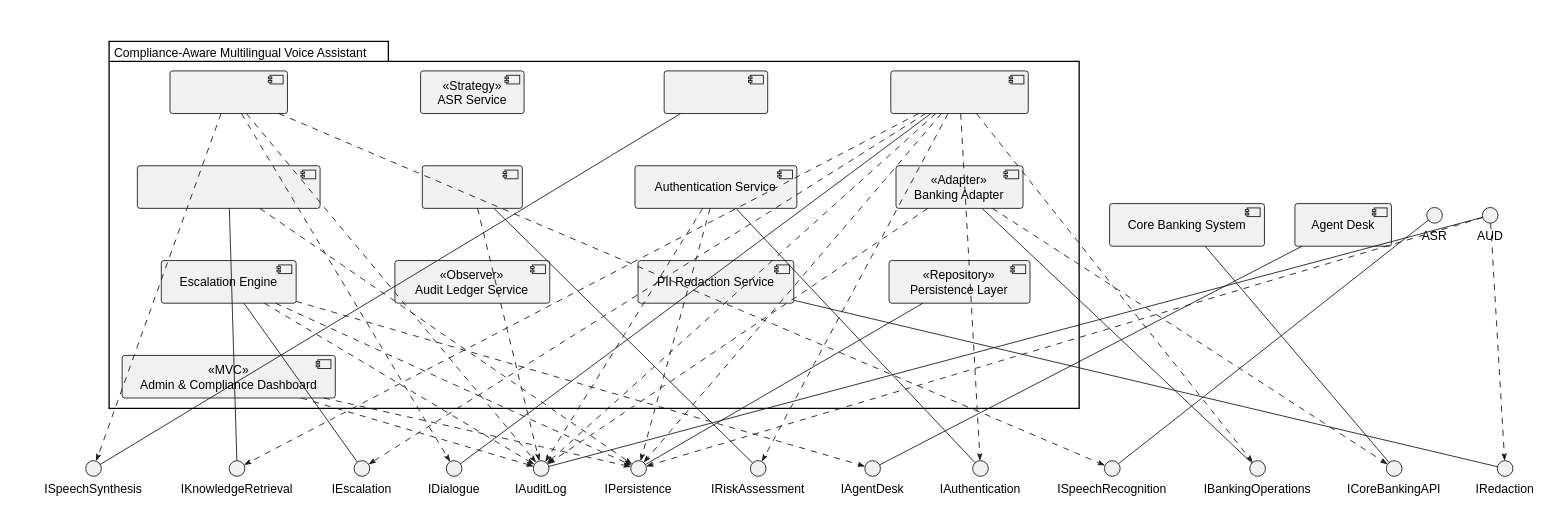
The diagram is 1551 pixels wide and 512 high, and some of its shapes have lost their labels. The shapes that lost their labels are listed below. From the top down, each one's centre as x and y in pixels, then its label:
At point (228, 92): "Voice Gateway".
At point (715, 92): "TTS Service".
At point (959, 92): "Dialogue Manager".
At point (228, 186): "Policy Knowledge Service".
At point (471, 186): "Risk Engine".
